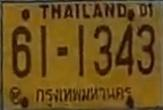1: (40, 24, 46, 75), (78, 24, 83, 75)
3: (93, 24, 113, 77), (136, 24, 156, 76)
4: (115, 24, 135, 76)
6: (11, 26, 31, 76)
BKK: (33, 83, 134, 106)
